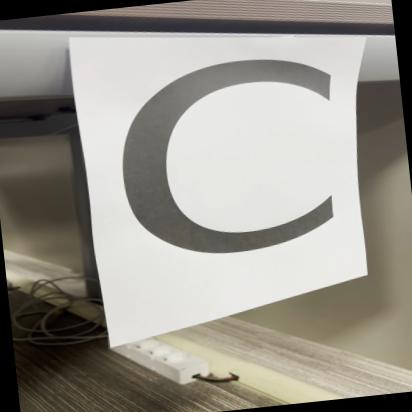seat: (86, 10, 362, 302)
